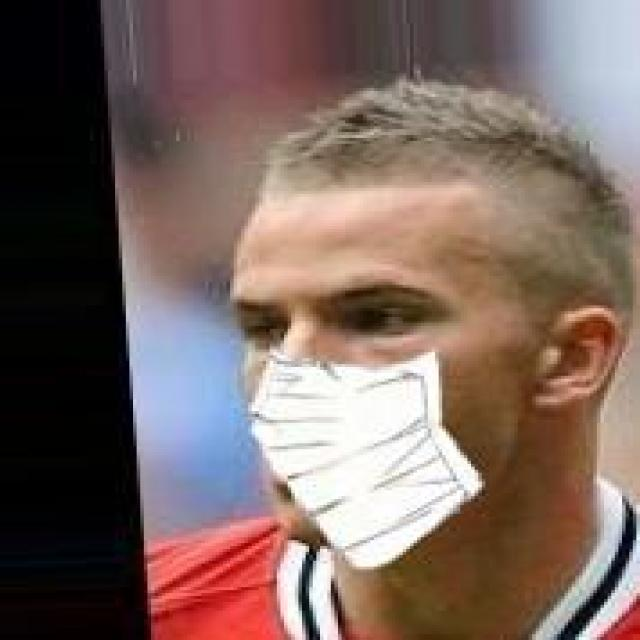mask: (194, 71, 629, 578)
